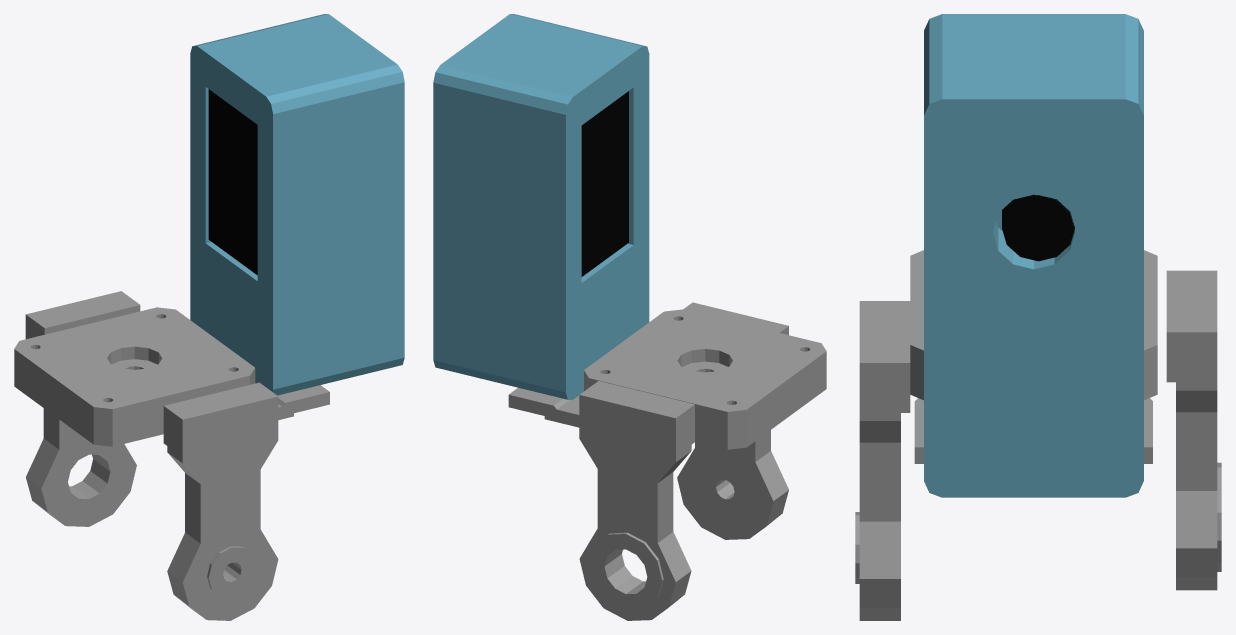
The model's file is head-leye-y.glb.
The picture shows the model from 3 angles, left to right: view 1: azimuth 30°, elevation 25°; view 2: azimuth 150°, elevation 25°; view 3: azimuth 270°, elevation 25°; orthographic projection. The views are drawn at different scales.
Bounding box in the file's own units: 0.0517 × 0.0775 × 0.04.
